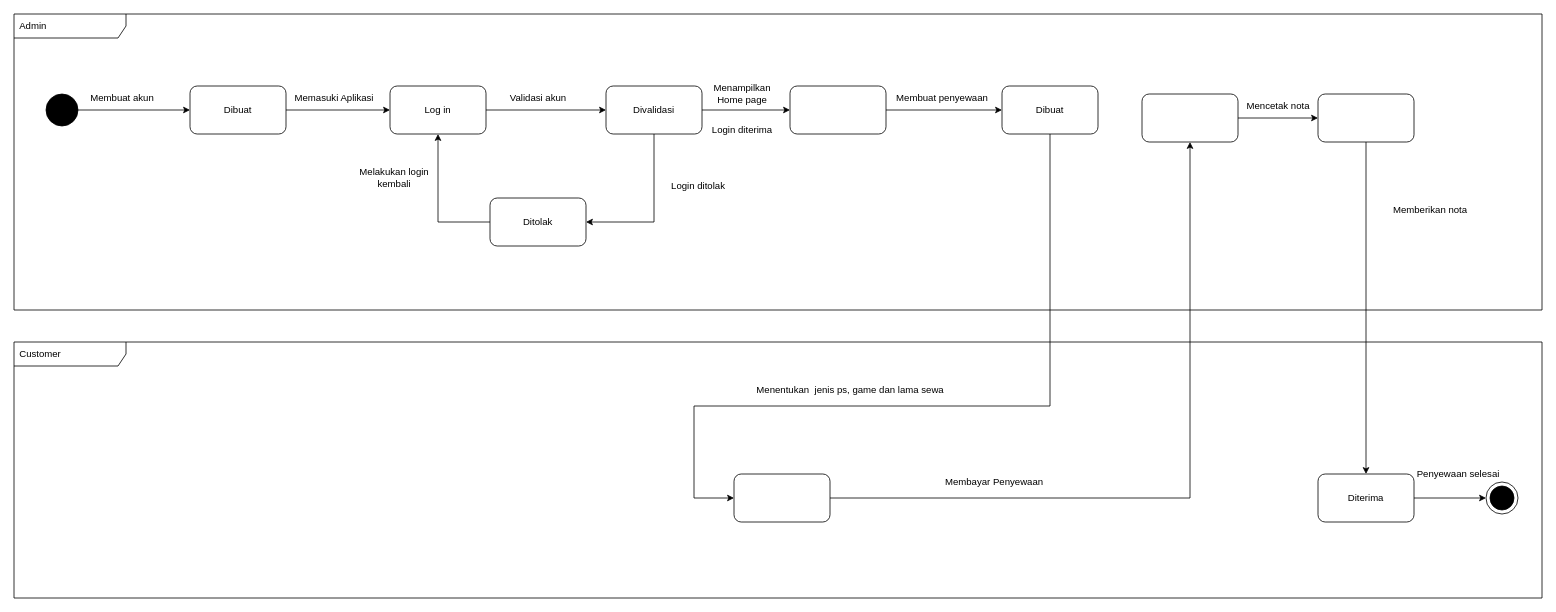
The diagram is 1556 pixels wide and 612 high, and some of its shapes have lost their labels. The centre of each missing label's shape, as x and y in pixels:
"Dibayar" belongs at point (1189, 117).
"Dicetak" belongs at point (1365, 117).
"Ditampilkan" belongs at point (837, 109).
"Ditentukan" belongs at point (781, 497).
